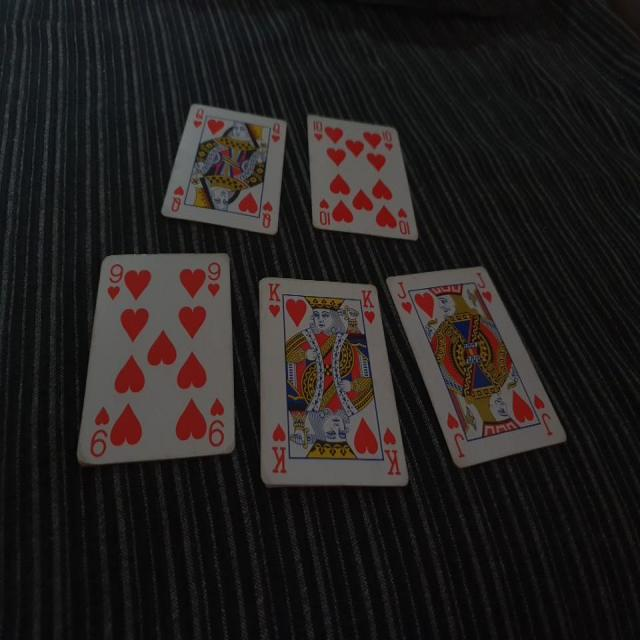10 Hearts: (298, 106, 422, 252)
9 Hearts: (79, 244, 239, 476)
J Hearts: (384, 246, 571, 473)
K Hearts: (256, 273, 410, 495)
Q Hearts: (159, 93, 290, 240)
